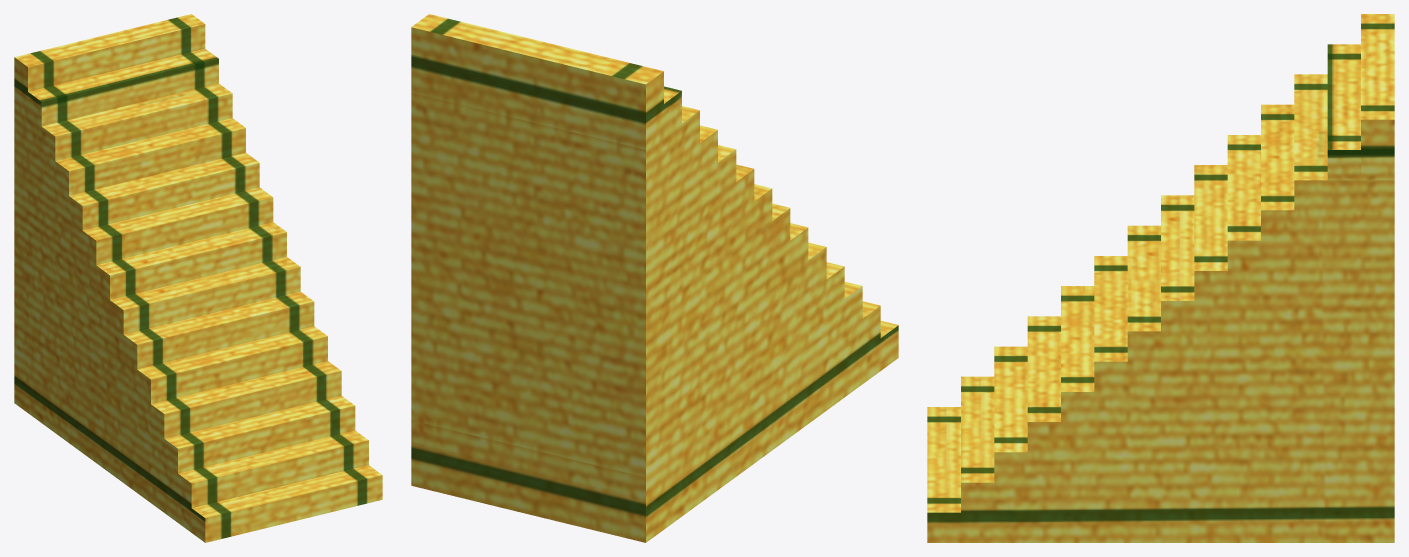
The model's file is 4x2 Stairs.fbx.
3 views of the same model, side by side, from view 1: azimuth 30°, elevation 25°; view 2: azimuth 150°, elevation 25°; view 3: azimuth 270°, elevation 25° (orthographic). The views are drawn at different scales.
Visible parts, largest first — view 1: 4x2 Stairs; view 2: 4x2 Stairs; view 3: 4x2 Stairs.
Boxes of the visible parts, x1,y1,x2,y2 form: 4x2 Stairs: [14, 14, 382, 542]; 4x2 Stairs: [411, 14, 898, 542]; 4x2 Stairs: [927, 14, 1394, 542].
Size of the model in its own units: 208 by 389 by 389.
Materials: 1 (1 with a texture image).
